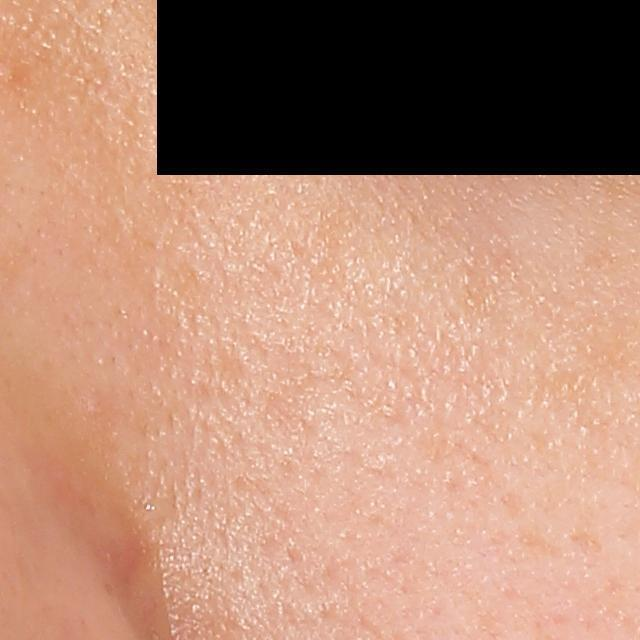comedo: (1, 64, 23, 86)
